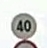limite 40: (10, 12, 36, 38)
